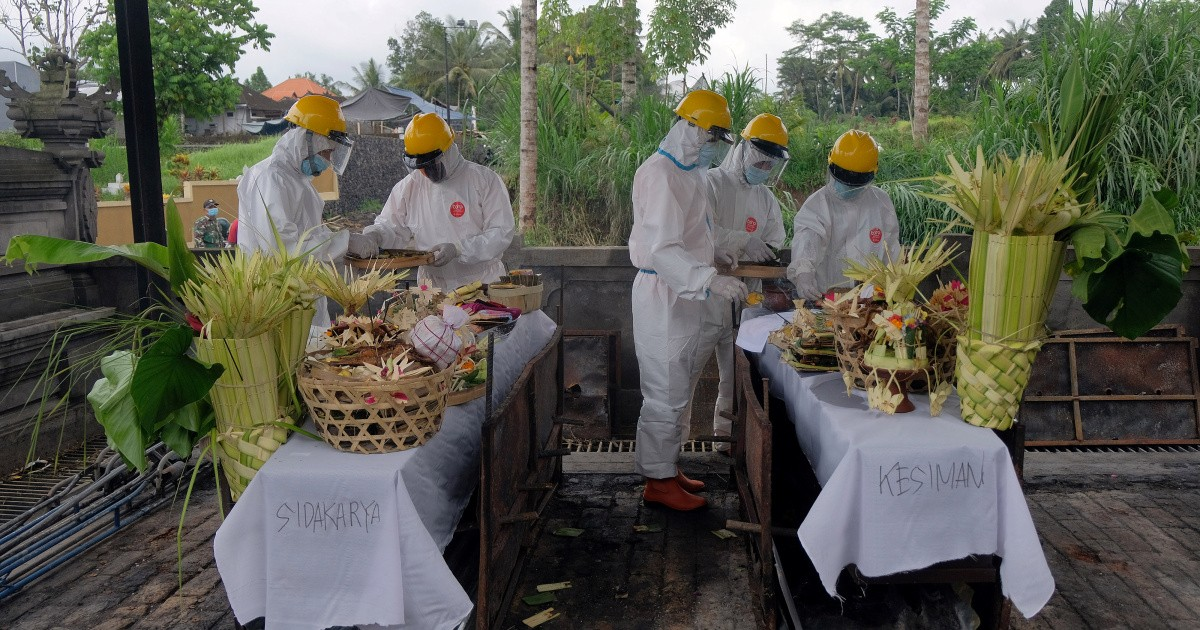Coverall: (629, 149, 712, 481), (699, 164, 789, 464), (373, 164, 516, 295), (233, 149, 336, 327), (789, 178, 917, 313)
Face_Shield: (737, 126, 791, 196), (394, 147, 441, 187), (320, 129, 358, 174)
Gloves: (738, 229, 776, 268), (710, 269, 747, 309), (346, 231, 378, 265), (429, 239, 464, 268), (715, 240, 741, 274)
with_mask: (300, 146, 336, 182), (697, 134, 721, 170)
